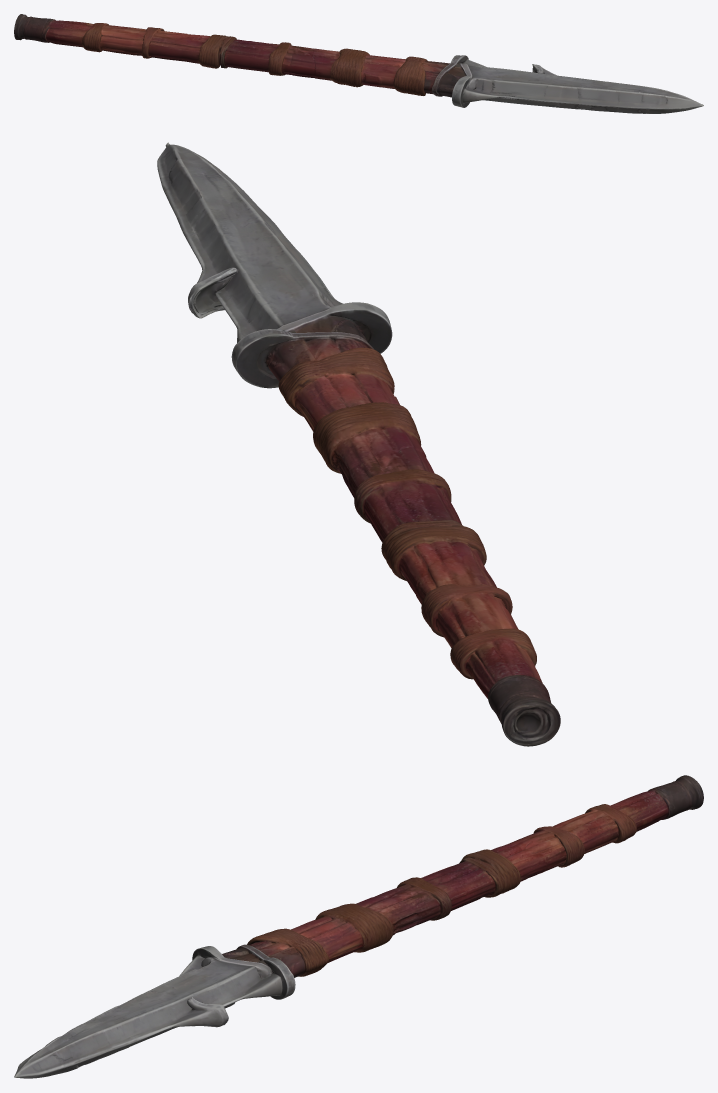
The model's file is yari_src.glb.
The picture shows the model from 3 angles, top to bottom: view 1: azimuth 30°, elevation 25°; view 2: azimuth 150°, elevation 25°; view 3: azimuth 270°, elevation 25°; orthographic projection. The views are drawn at different scales.
Parts seen in each view (by area): view 1: tripo_node_dc83ca5a-7f70-4b0a-9137-1540ade8e270; view 2: tripo_node_dc83ca5a-7f70-4b0a-9137-1540ade8e270; view 3: tripo_node_dc83ca5a-7f70-4b0a-9137-1540ade8e270.
Part boxes in pixels (left/top/right/bottom): tripo_node_dc83ca5a-7f70-4b0a-9137-1540ade8e270: left=14, top=14, right=703, bottom=113; tripo_node_dc83ca5a-7f70-4b0a-9137-1540ade8e270: left=157, top=142, right=560, bottom=746; tripo_node_dc83ca5a-7f70-4b0a-9137-1540ade8e270: left=14, top=775, right=703, bottom=1078.
Bounding box in the file's own units: 0.9788 × 0.0562 × 0.9806.
1 material, 1 textured.
